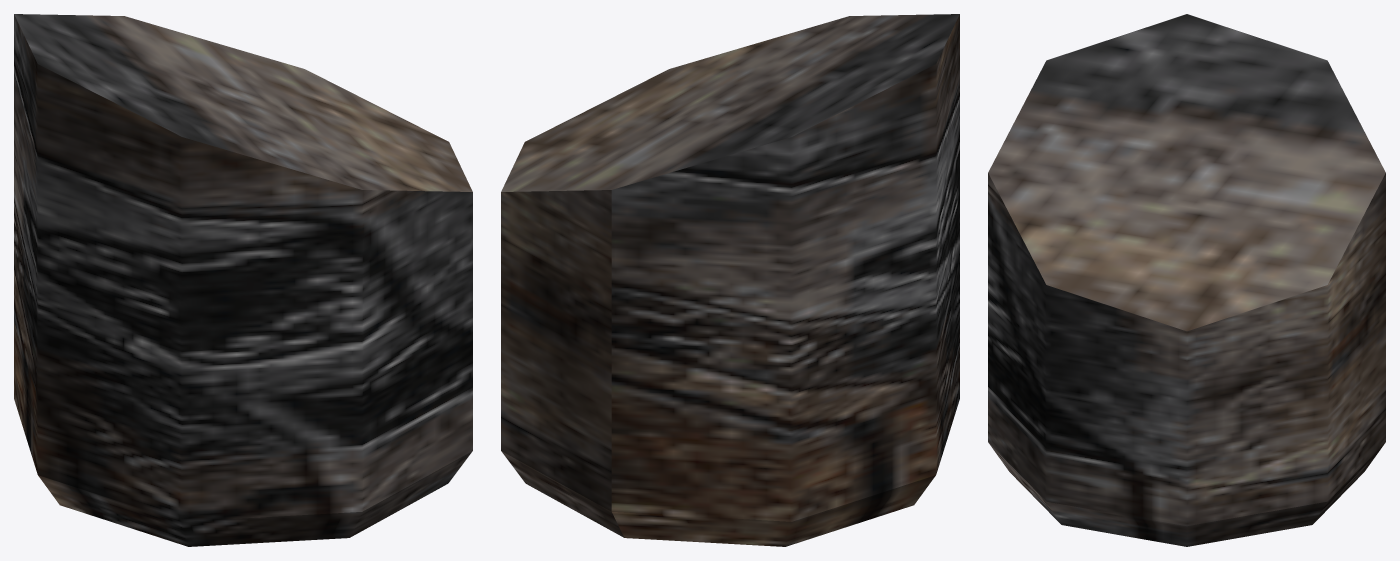
3 views of the same model, side by side, from view 1: azimuth 30°, elevation 25°; view 2: azimuth 150°, elevation 25°; view 3: azimuth 270°, elevation 25° (orthographic). The views are drawn at different scales.
Parts seen in each view (by area): view 1: SMDImport; view 2: SMDImport; view 3: SMDImport.
Part boxes in pixels (left/top/right/bottom): SMDImport: left=14, top=14, right=472, bottom=546; SMDImport: left=501, top=14, right=959, bottom=546; SMDImport: left=988, top=14, right=1385, bottom=546.
Bounding box in the file's own units: 95.73 × 99.28 × 95.73.
